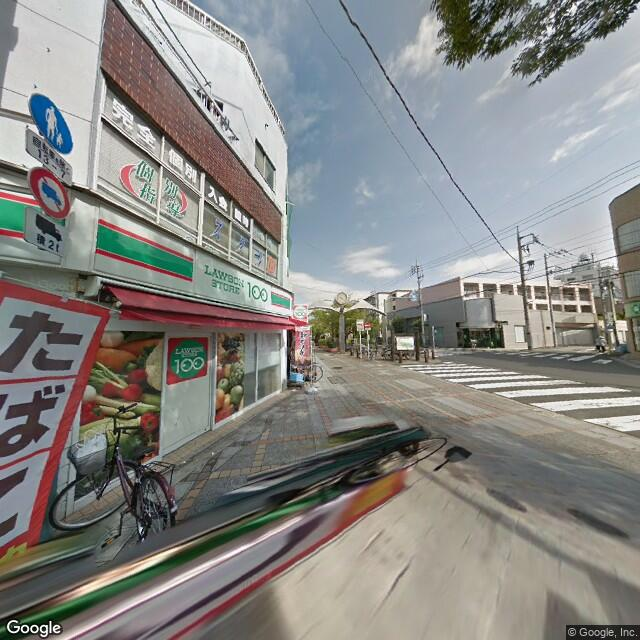lawson: (92, 216, 299, 319), (168, 336, 209, 386)
